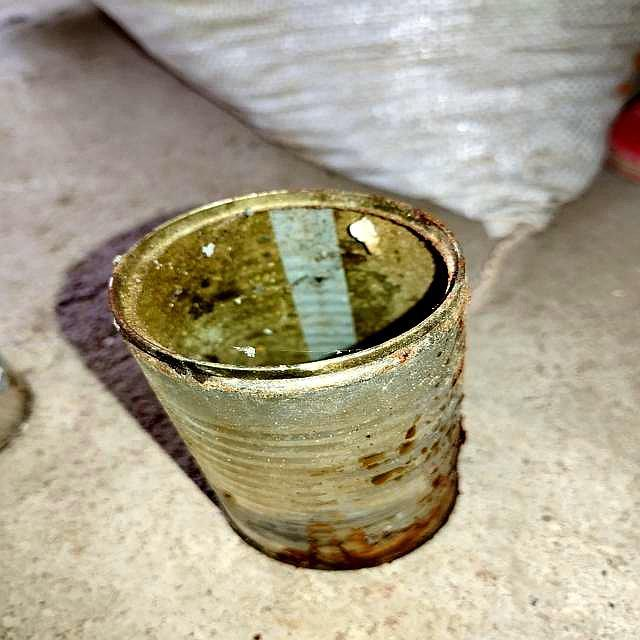Non-biodegradable: (106, 186, 473, 572)
